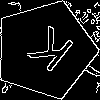K: (20, 25, 76, 82)
